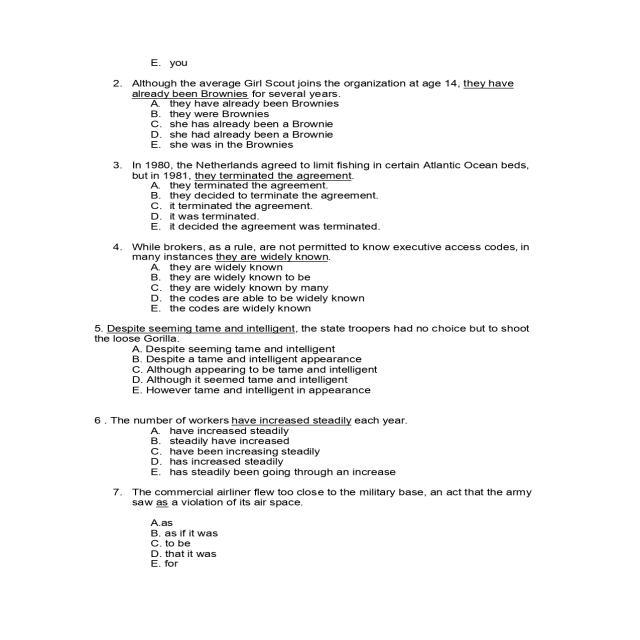Answer_Block: (69, 512, 596, 580), (69, 97, 596, 156), (69, 343, 596, 402), (69, 262, 596, 320), (69, 181, 596, 238), (69, 428, 596, 484), (69, 46, 596, 78)
Question_Block: (69, 484, 596, 511), (69, 157, 596, 179), (69, 76, 596, 97), (69, 242, 596, 263), (69, 324, 596, 342), (69, 410, 596, 428)
Question_Paper_Area: (69, 45, 596, 588), (69, 484, 596, 580), (69, 156, 596, 238), (69, 76, 596, 156), (69, 242, 596, 321), (69, 324, 596, 402), (69, 409, 596, 484), (69, 46, 596, 78)
